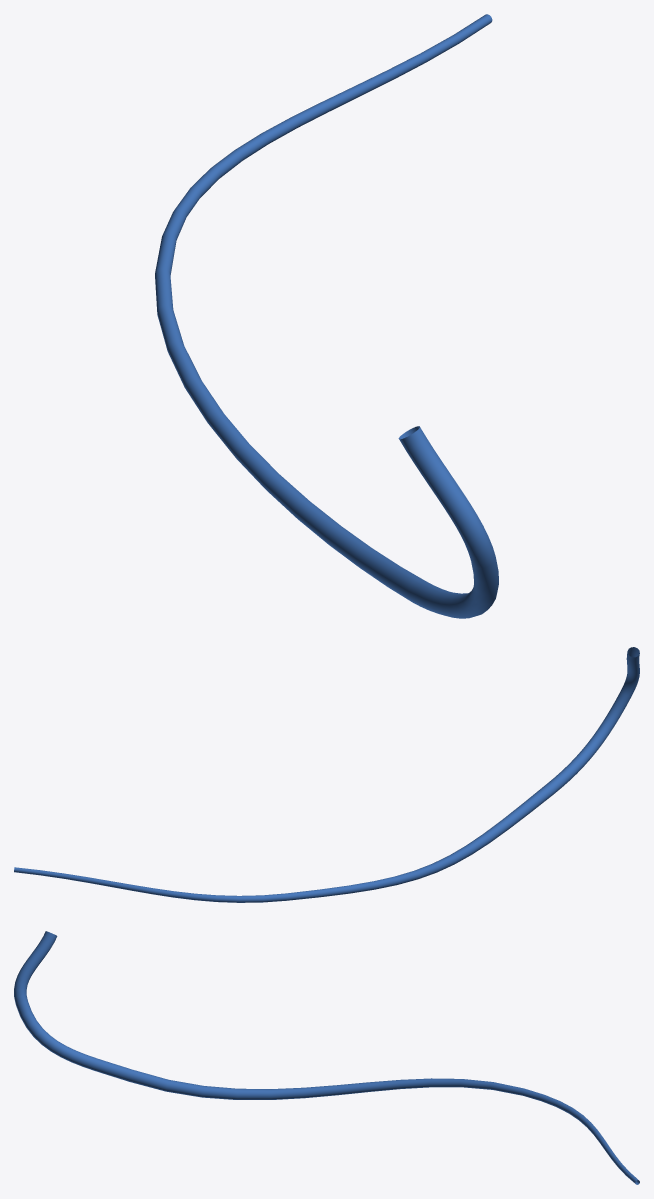
3 views of the same model, one above another, from view 1: azimuth 30°, elevation 25°; view 2: azimuth 150°, elevation 25°; view 3: azimuth 270°, elevation 25° (orthographic). The views are drawn at different scales.
Parts seen in each view (by area): view 1: 右侧甲状腺上静脉; view 2: 右侧甲状腺上静脉; view 3: 右侧甲状腺上静脉.
Part boxes in pixels (<box>): 右侧甲状腺上静脉: <box>155,14,498,618</box>; 右侧甲状腺上静脉: <box>14,647,639,902</box>; 右侧甲状腺上静脉: <box>14,931,639,1184</box>.
Size of the model in its own units: 0.0453 by 0.0181 by 0.0725.
